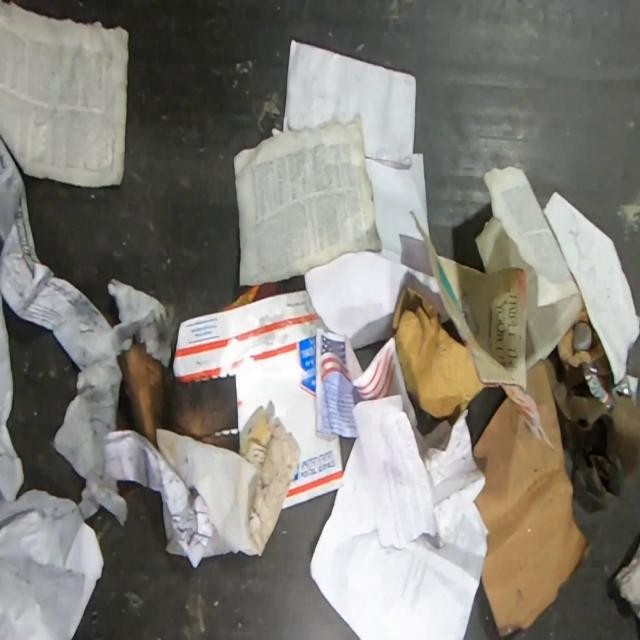cardboard: (172, 289, 344, 510), (472, 358, 594, 640), (390, 285, 485, 420), (556, 324, 612, 377), (571, 293, 590, 325)
rigid_plastic: (581, 361, 632, 412), (572, 320, 592, 351)
